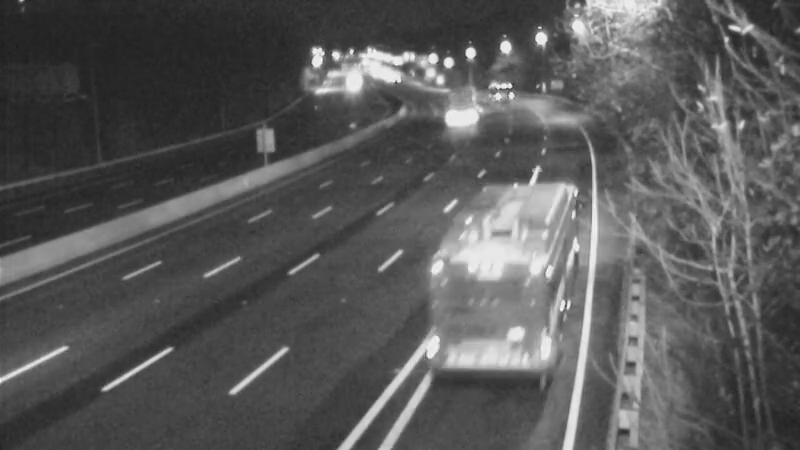vehicle: (440, 206, 520, 286), (470, 64, 520, 114), (436, 76, 486, 126), (326, 57, 376, 107)
